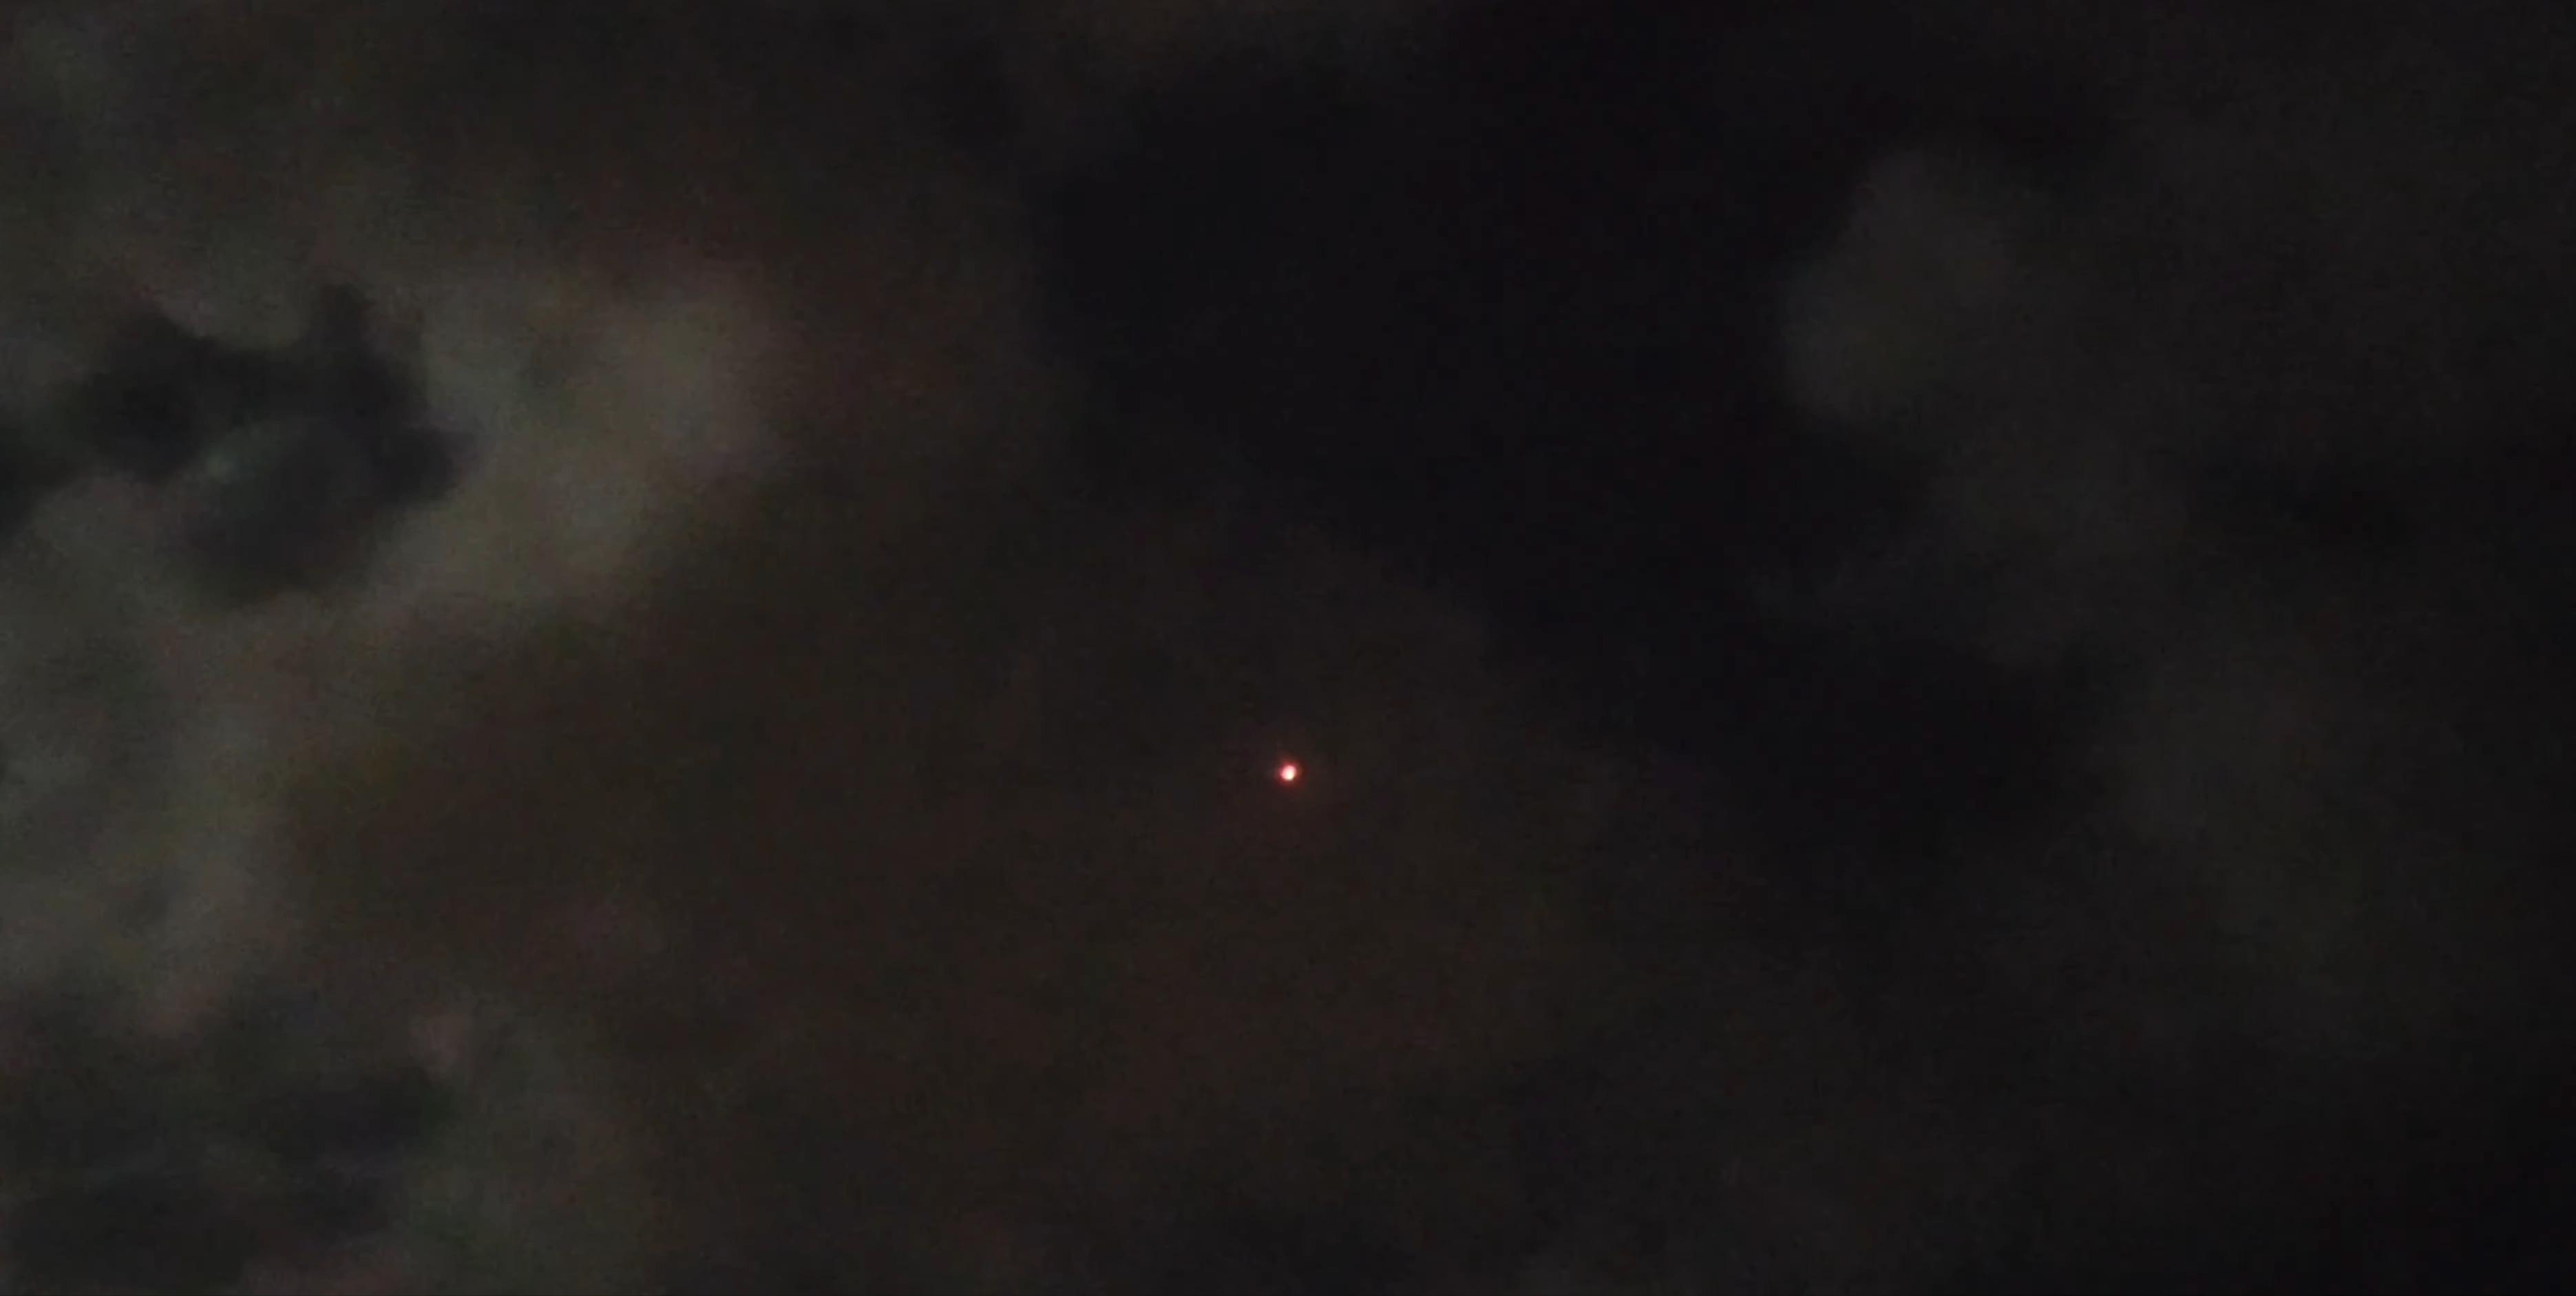Plane: (1267, 755, 1310, 793)
